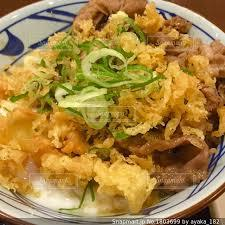niku: (1, 2, 225, 222)
